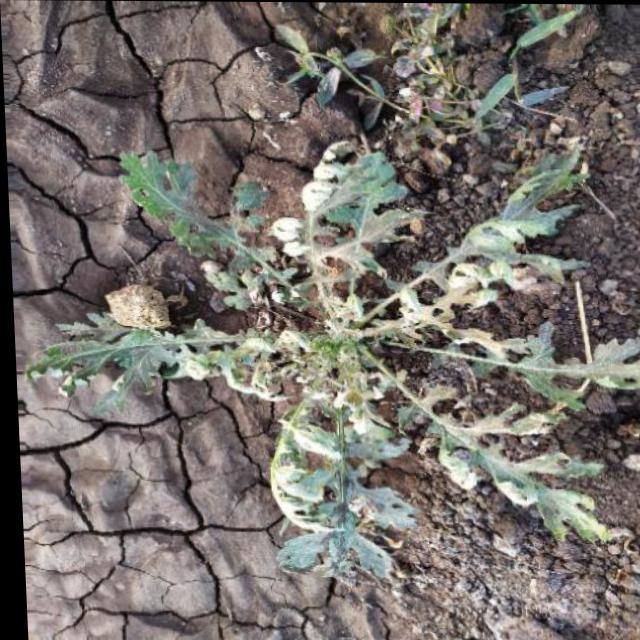weed: (30, 139, 640, 576)
